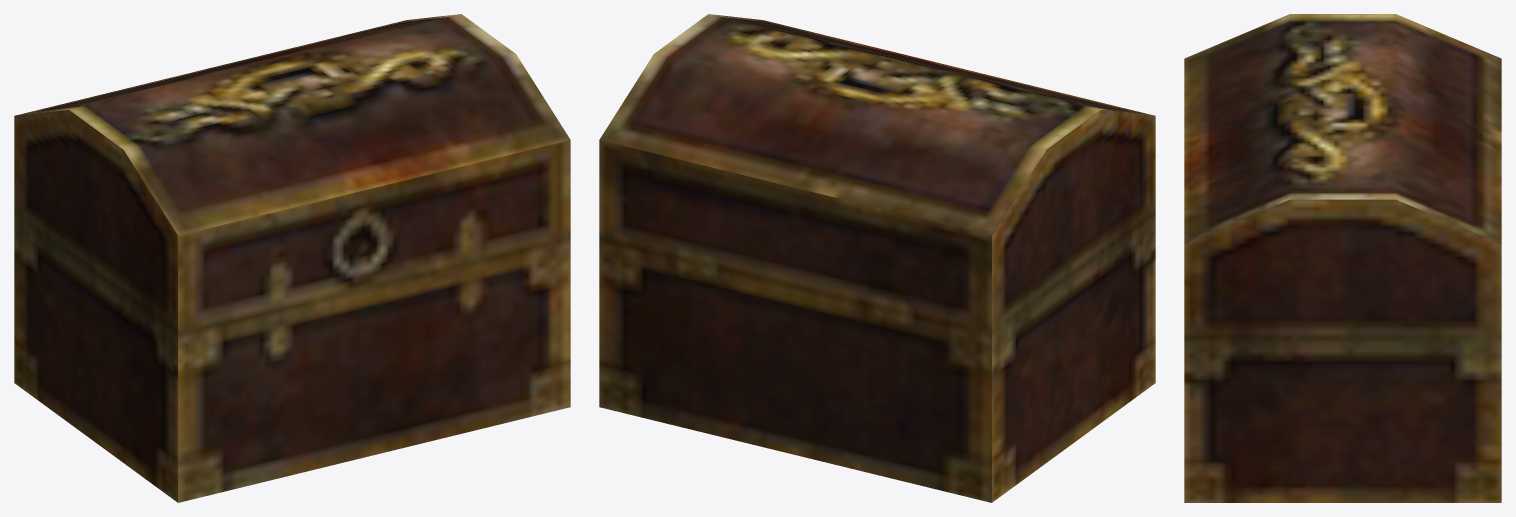
The model's file is skn_cl_equip.fbx.
3 views of the same model, side by side, from view 1: azimuth 30°, elevation 25°; view 2: azimuth 150°, elevation 25°; view 3: azimuth 270°, elevation 25° (orthographic). The views are drawn at different scales.
Parts seen in each view (by area): view 1: baoxiang1; view 2: baoxiang1; view 3: baoxiang1.
Boxes of the visible parts, x1,y1,x2,y2 form: baoxiang1: (14,14,570,502); baoxiang1: (599,14,1155,502); baoxiang1: (1184,14,1501,502).
Size of the model in its own units: 1.38 by 1.05 by 0.9949.
Materials: 1 (1 with a texture image).
